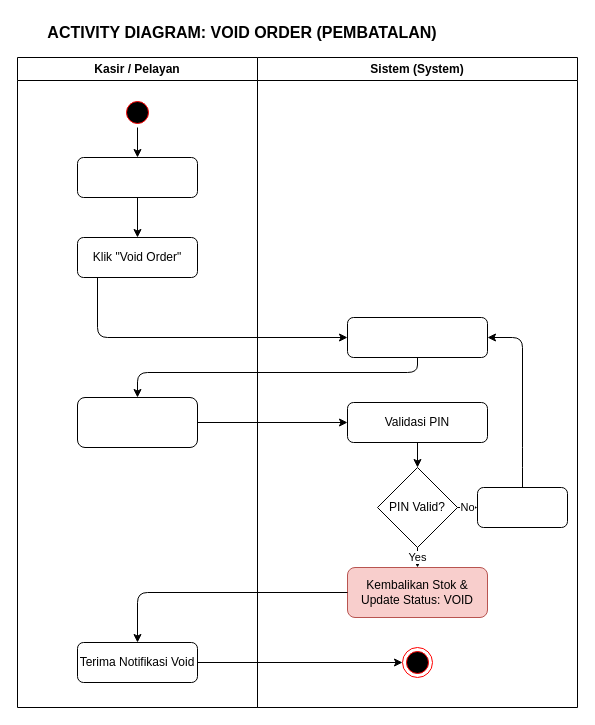
Some shapes in this 595 by 725 pixel diagram are drawn without their labels. Here are the shapes that lost their labels. From the top down, the centre of each, then its label:
At (137,177): "Pilih Transaksi".
At (417,337): "Tampilkan Pop-up Input PIN".
At (137,422): "Input PIN Manajer (Otorisasi)".
At (522,507): "Tolak Akses".
